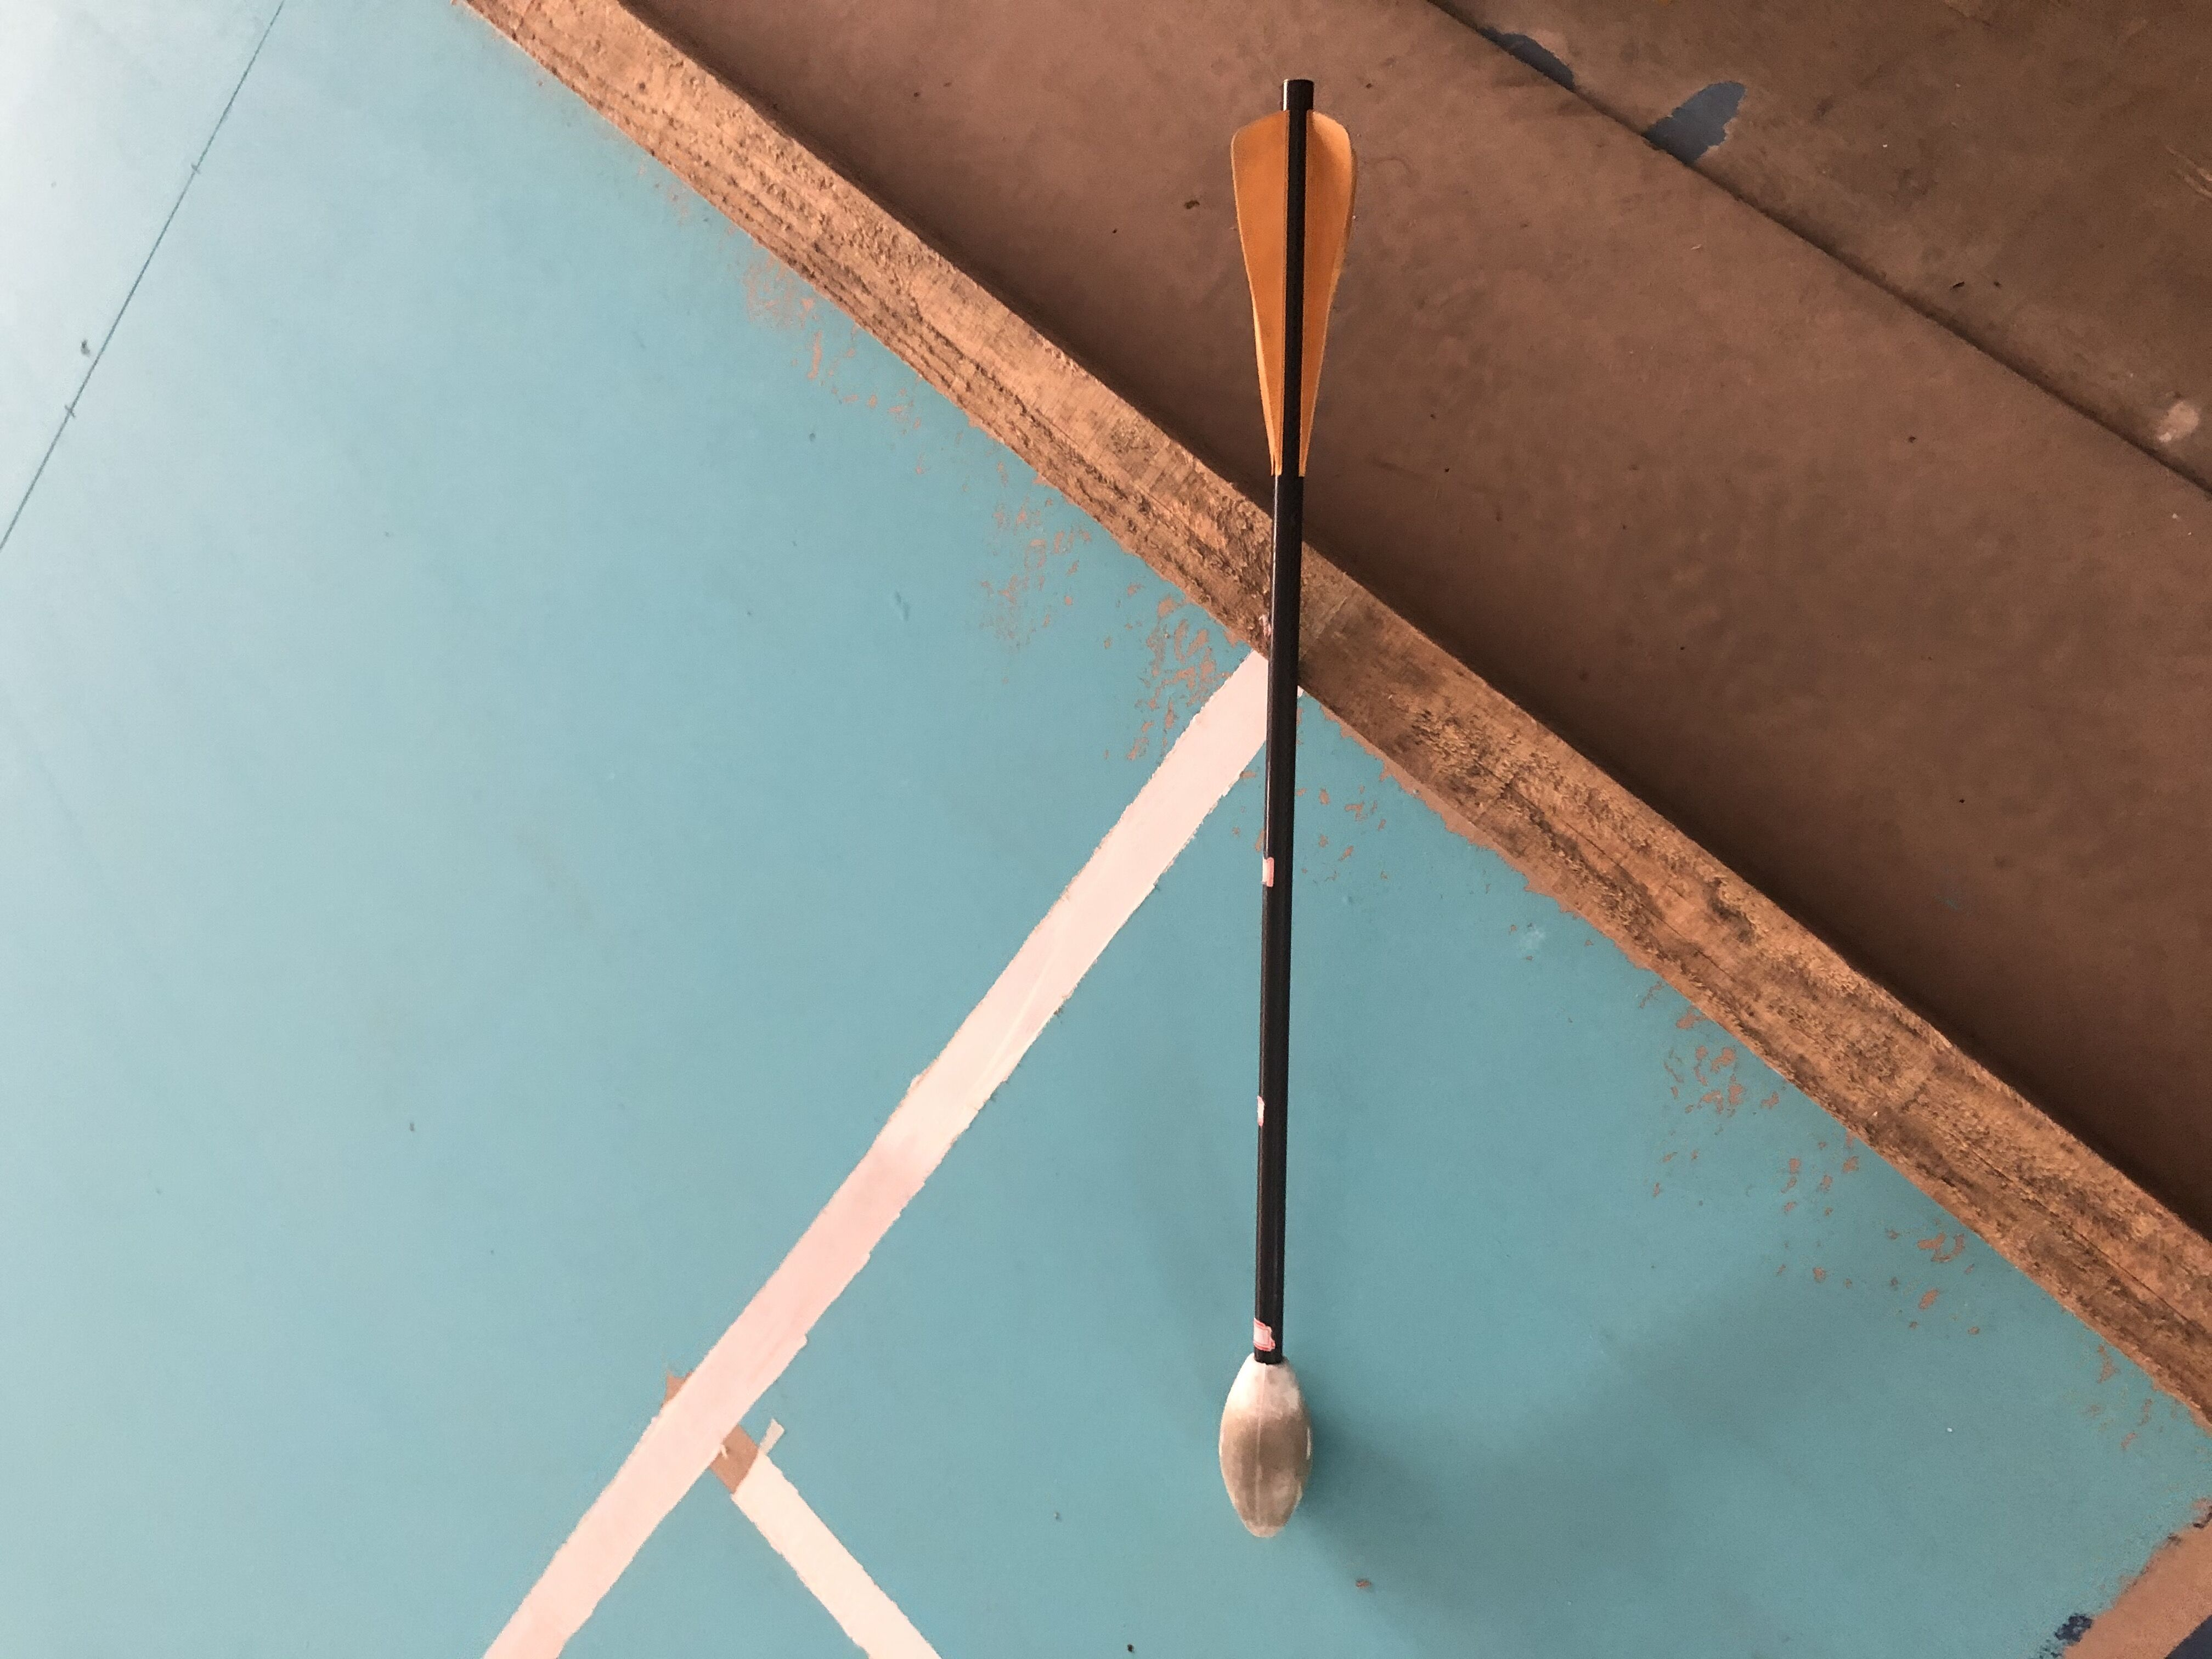arrow: (1217, 77, 1359, 1546)
arrowFront: (1217, 1349, 1317, 1546)
